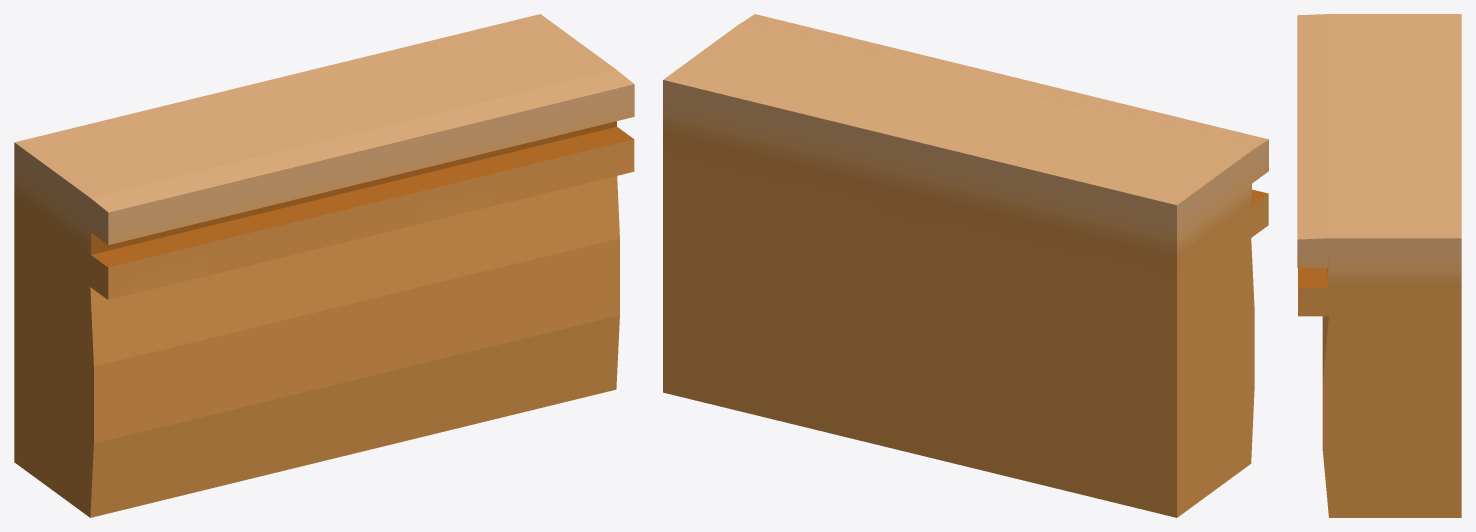
Rendered from MuralhaPerfilF.glb.
3 views of the same model, side by side, from view 1: azimuth 30°, elevation 25°; view 2: azimuth 150°, elevation 25°; view 3: azimuth 270°, elevation 25° (orthographic). The views are drawn at different scales.
Parts seen in each view (by area): view 1: MuralhaPerfilF; view 2: MuralhaPerfilF; view 3: MuralhaPerfilF.
Boxes of the visible parts, x1,y1,x2,y2 form: MuralhaPerfilF: (14,14,634,517); MuralhaPerfilF: (663,14,1268,517); MuralhaPerfilF: (1297,14,1461,517).
Size of the model in its own units: 8 by 4.65 by 2.48.
1 material, 1 textured.
